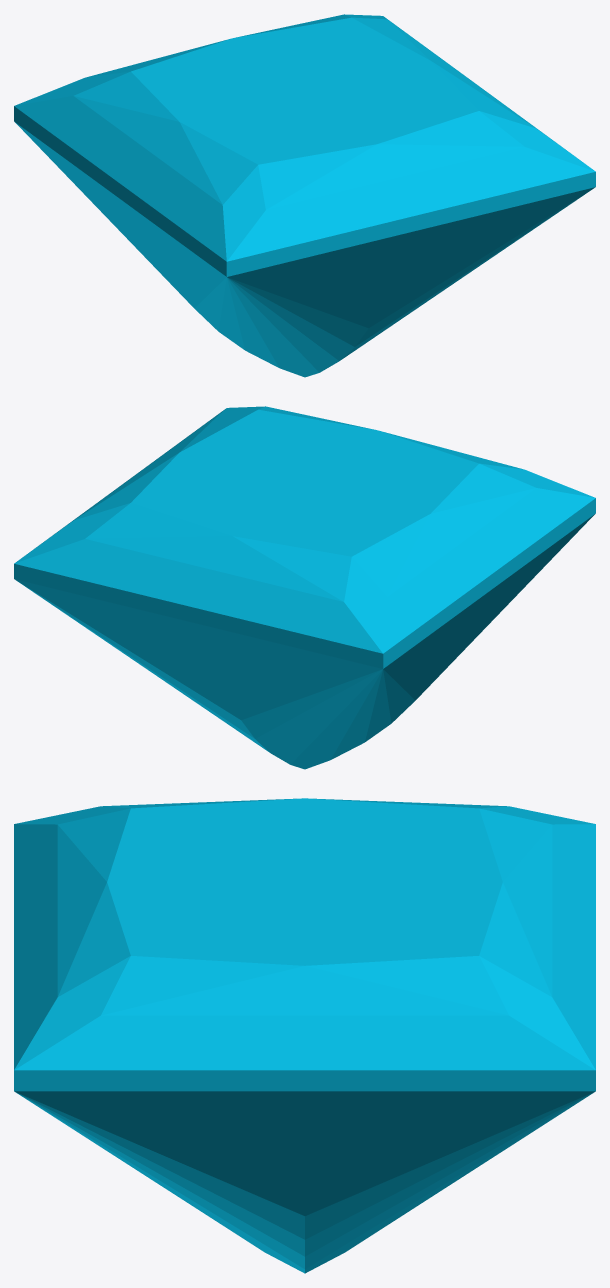
File: Head_Hidden Halo_Princess_1.5ct_Diamond.glb
3 renders of one model, top to bottom at view 1: azimuth 30°, elevation 25°; view 2: azimuth 150°, elevation 25°; view 3: azimuth 270°, elevation 25°, orthographic. The views are drawn at different scales.
Size of the model in its own units: 0.00639 by 0.00473 by 0.00638.
